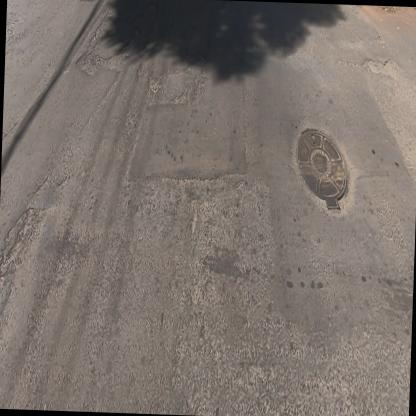manholes: (289, 116, 360, 232)
